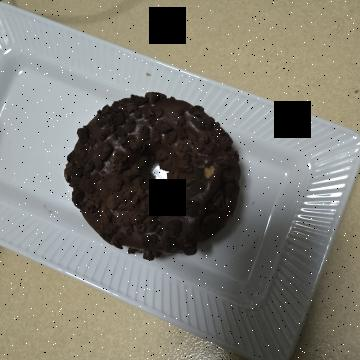doughnut: (82, 111, 274, 298)
